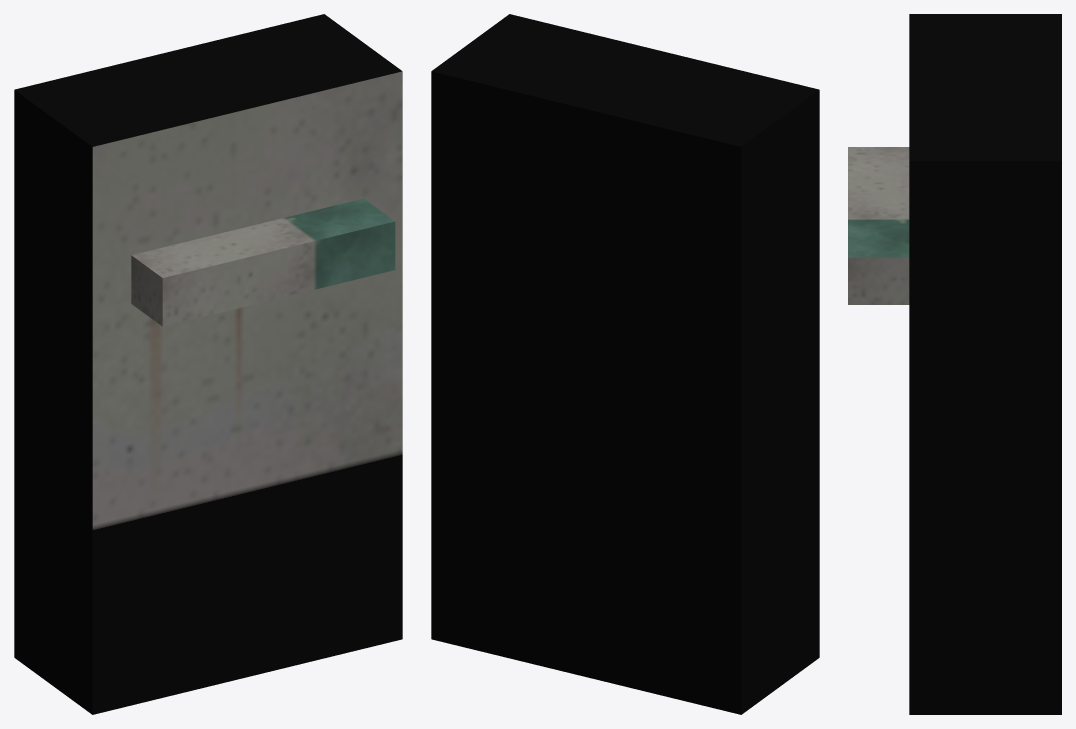
File: card_reader.fbx
3 renders of one model, left to right at view 1: azimuth 30°, elevation 25°; view 2: azimuth 150°, elevation 25°; view 3: azimuth 270°, elevation 25°, orthographic. The views are drawn at different scales.
Parts seen in each view (by area): view 1: card_reader; view 2: card_reader; view 3: card_reader.
Part boxes in pixels (box(x1,y1,x2,y2)): card_reader: box(14, 14, 402, 714); card_reader: box(431, 14, 819, 714); card_reader: box(848, 14, 1061, 714).
Size of the model in its own units: 0.08 by 0.14 by 0.049.
